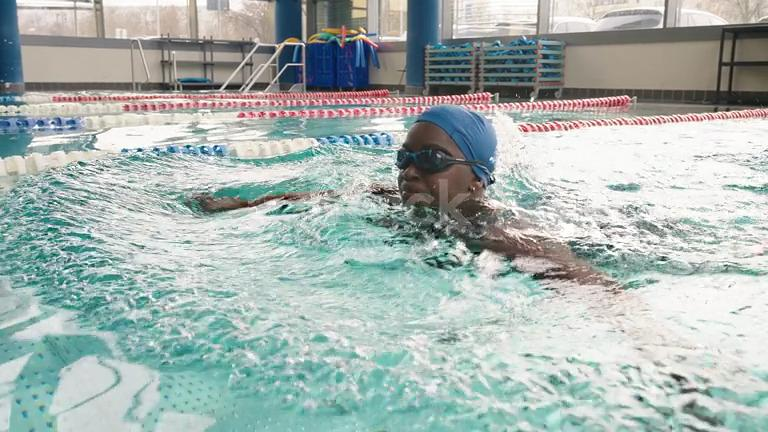Swimming: (219, 62, 740, 331)
